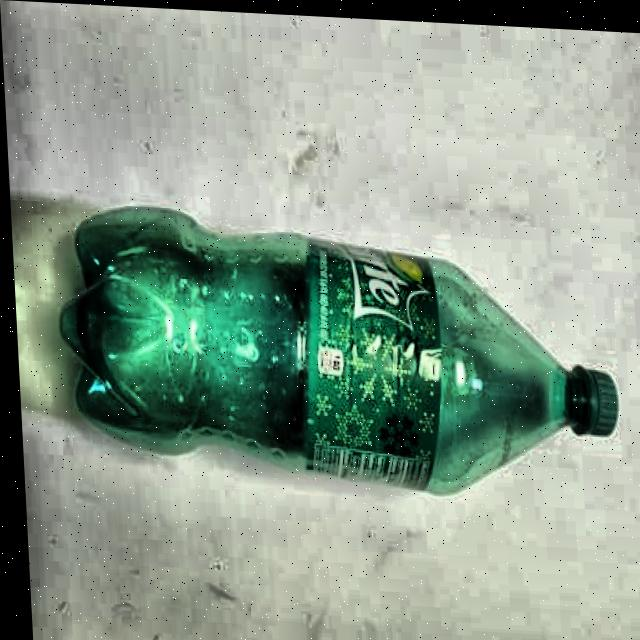plastic: (49, 185, 626, 538)
